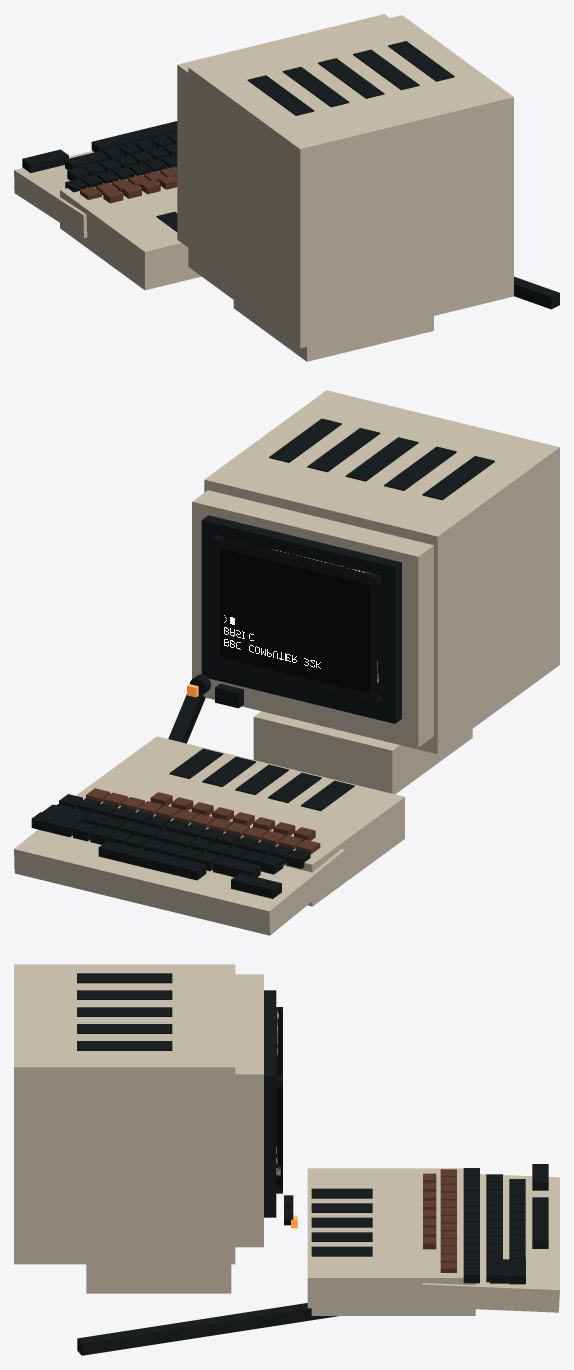
Rendered from bbc-computer.glb.
3 views of the same model, one above another, from view 1: azimuth 30°, elevation 25°; view 2: azimuth 150°, elevation 25°; view 3: azimuth 270°, elevation 25° (orthographic). The views are drawn at different scales.
Parts seen in each view (by area): view 1: bbc CRT rear case, bbc computer base, bbc monitor vent slit (×5), bbc CRT face surround, bbc keyboard tray, bbc CRT pedestal, bbc space key, bbc coiled monitor cable, bbc left shift key; view 2: bbc CRT rear case, BBC screen, bbc CRT face surround, bbc computer base, bbc keyboard tray, bbc CRT recessed bezel, bbc CRT pedestal, bbc monitor vent slit (×5), bbc base vent slit (×5), bbc space key, bbc coiled monitor cable, bbc return key (+1 smaller); view 3: bbc CRT rear case, bbc computer base, bbc CRT face surround, bbc keyboard tray, bbc monitor vent slit (×5), bbc coiled monitor cable, bbc CRT pedestal, bbc base vent slit (×5), bbc CRT recessed bezel, BBC screen, bbc space key, bbc return key.
Part boxes in pixels (bbox=[...]): bbc CRT rear case: bbox=[188, 15, 513, 348]; bbc computer base: bbox=[60, 167, 201, 290]; bbc monitor vent slit (×5): bbox=[247, 41, 454, 115]; bbc CRT face surround: bbox=[177, 14, 389, 247]; bbc keyboard tray: bbox=[14, 151, 94, 238]; bbc CRT pedestal: bbox=[233, 300, 433, 361]; bbc space key: bbox=[91, 121, 177, 152]; bbc coiled monitor cable: bbox=[514, 276, 559, 309]; bbc left shift key: bbox=[22, 149, 68, 173]; bbc CRT rear case: bbox=[204, 390, 559, 754]; BBC screen: bbox=[212, 535, 380, 703]; bbc CRT face surround: bbox=[192, 490, 433, 747]; bbc computer base: bbox=[76, 736, 404, 906]; bbc keyboard tray: bbox=[14, 829, 345, 935]; bbc CRT recessed bezel: bbox=[201, 515, 401, 723]; bbc CRT pedestal: bbox=[253, 711, 472, 794]; bbc monitor vent slit (×5): bbox=[269, 418, 494, 500]; bbc base vent slit (×5): bbox=[169, 748, 354, 811]; bbc space key: bbox=[98, 841, 206, 880]; bbc coiled monitor cable: bbox=[168, 694, 205, 743]; bbc return key: bbox=[32, 804, 89, 836]; bbc CRT rear case: bbox=[14, 964, 235, 1264]; bbc computer base: bbox=[307, 1168, 475, 1315]; bbc CRT face surround: bbox=[235, 974, 263, 1247]; bbc keyboard tray: bbox=[421, 1174, 559, 1312]; bbc monitor vent slit (×5): bbox=[77, 973, 172, 1050]; bbc coiled monitor cable: bbox=[77, 1303, 338, 1355]; bbc CRT pedestal: bbox=[86, 1264, 231, 1293]; bbc base vent slit (×5): bbox=[311, 1188, 372, 1256]; bbc CRT recessed bezel: bbox=[264, 990, 276, 1217]; BBC screen: bbox=[276, 1007, 282, 1193]; bbc space key: bbox=[532, 1197, 548, 1248]; bbc return key: bbox=[490, 1259, 525, 1283].
Size of the model in its own units: 0.9099 by 0.7345 by 1.43.
Materials: 5 (1 with a texture image).
